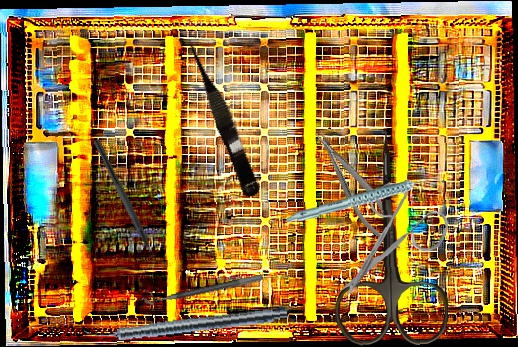Chopper: (84, 138, 162, 270)
Fixation Ring: (139, 264, 264, 307)
Handpiece: (83, 302, 289, 347), (285, 179, 439, 224)
Iris Scissors: (332, 131, 449, 346), (337, 181, 450, 302)
Micro Scissor: (181, 32, 266, 200)
Needle Holder: (308, 120, 408, 260)
